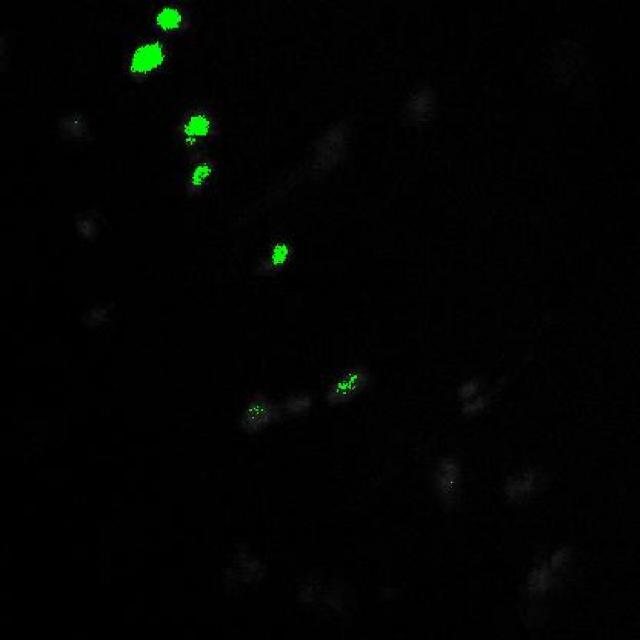Cell: (131, 43, 160, 71), (157, 5, 180, 32), (185, 117, 212, 137), (273, 240, 287, 264), (193, 165, 209, 182)
